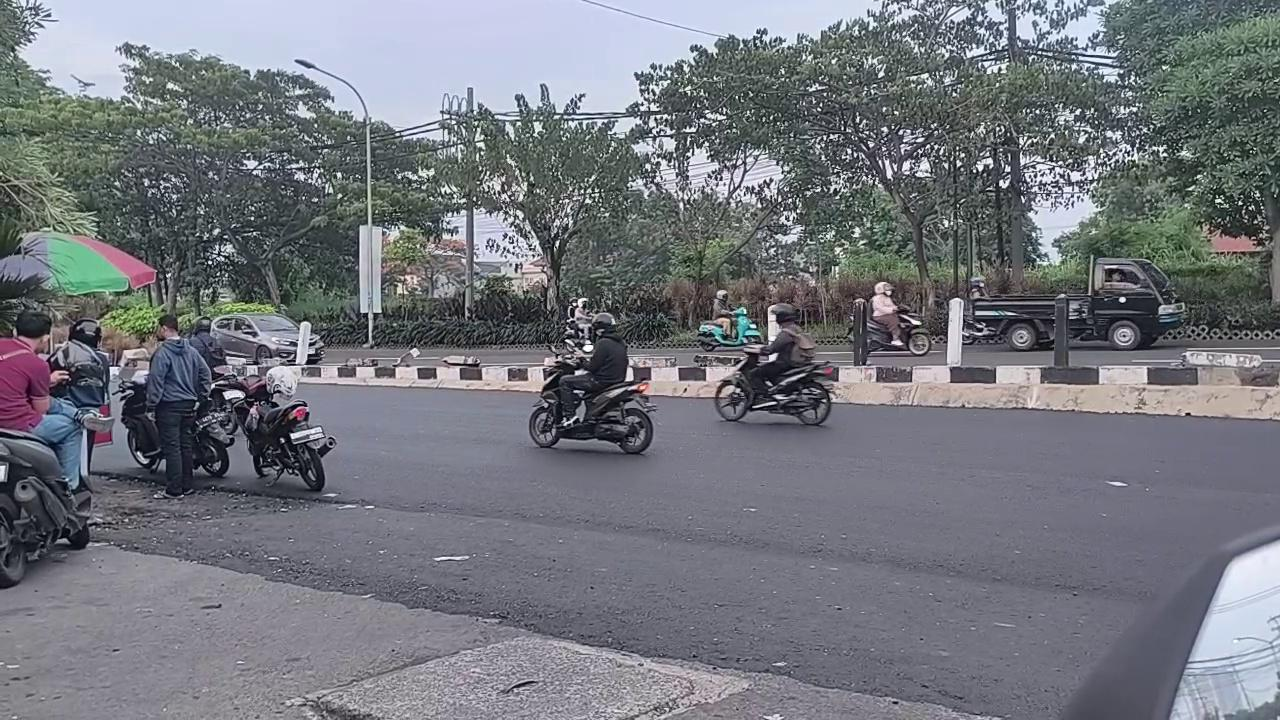Helmet: (559, 312, 628, 426), (48, 318, 109, 413), (752, 303, 815, 391), (871, 281, 903, 345), (188, 316, 226, 369), (713, 289, 735, 339)
Motor: (0, 430, 92, 587), (529, 348, 655, 453), (230, 377, 336, 491), (714, 348, 833, 425), (115, 371, 162, 469), (866, 308, 931, 356), (697, 307, 763, 350), (209, 365, 243, 435), (564, 319, 593, 353), (962, 317, 996, 344)
